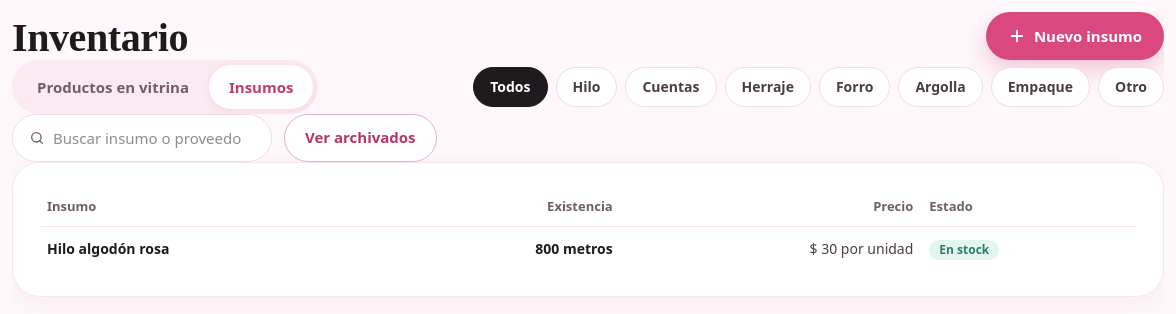
Scenario: lista de insumos archivados
The width and height of the screenshot is (1176, 314).
Click the button "Ver archivados" at [360, 138], box [284,114,437,162]
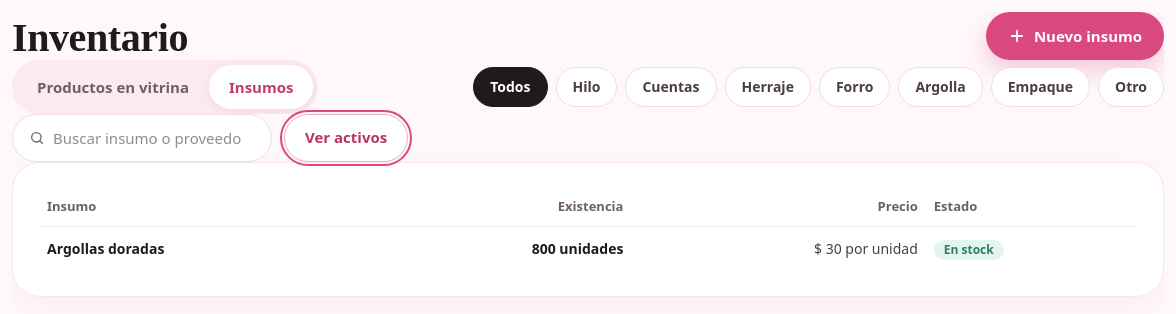
Expected: the link "Argollas doradas" is shown, [47,239,164,258]
Click the button "Ver activos" at [346, 138], box [284,114,408,162]
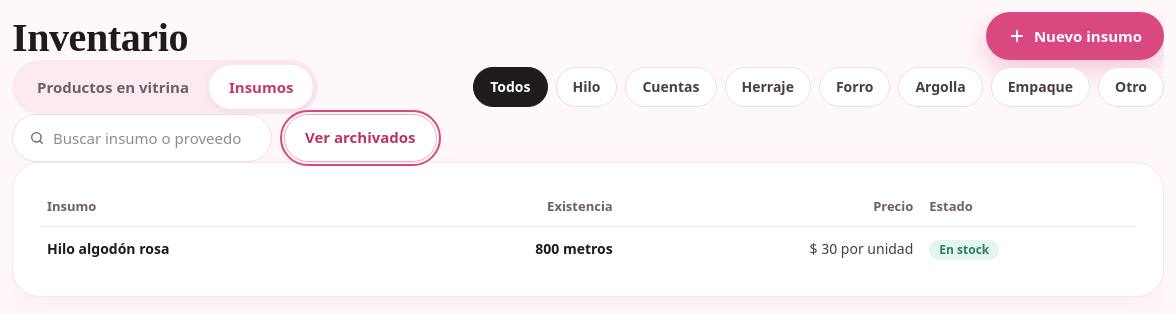
Expected: the link "Hilo algodón rosa" is shown, [47,239,169,258]
